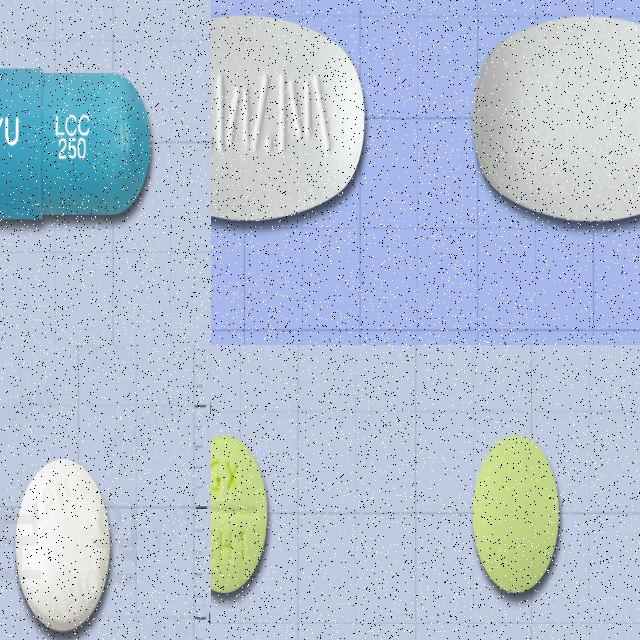Imuran: (473, 433, 561, 595), (211, 433, 269, 592)
Lesacin: (17, 454, 112, 635)
Lincocin: (0, 68, 152, 220)
Moxicle: (473, 14, 640, 220), (211, 14, 366, 222)
